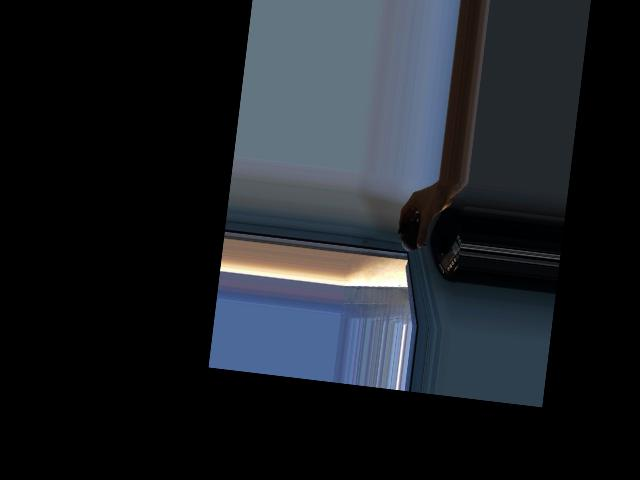beet: (396, 216, 430, 253)
